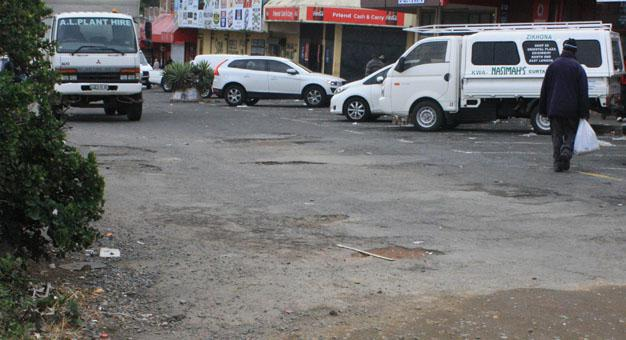pothole: (345, 219, 437, 283), (90, 141, 183, 177), (230, 127, 347, 145), (238, 156, 350, 172)
